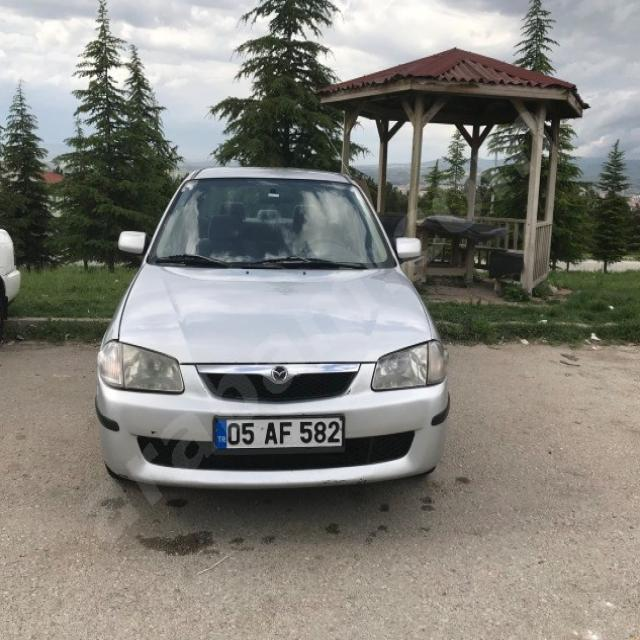license_plate: (214, 416, 344, 449)
